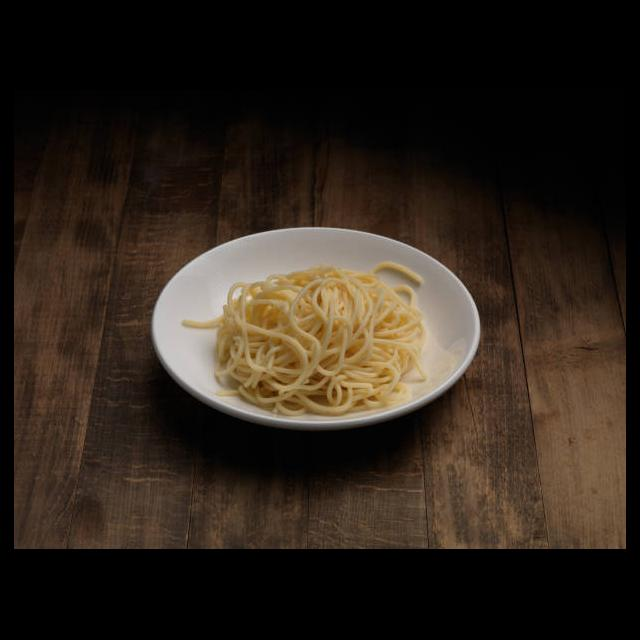noodles: (179, 260, 429, 420)
